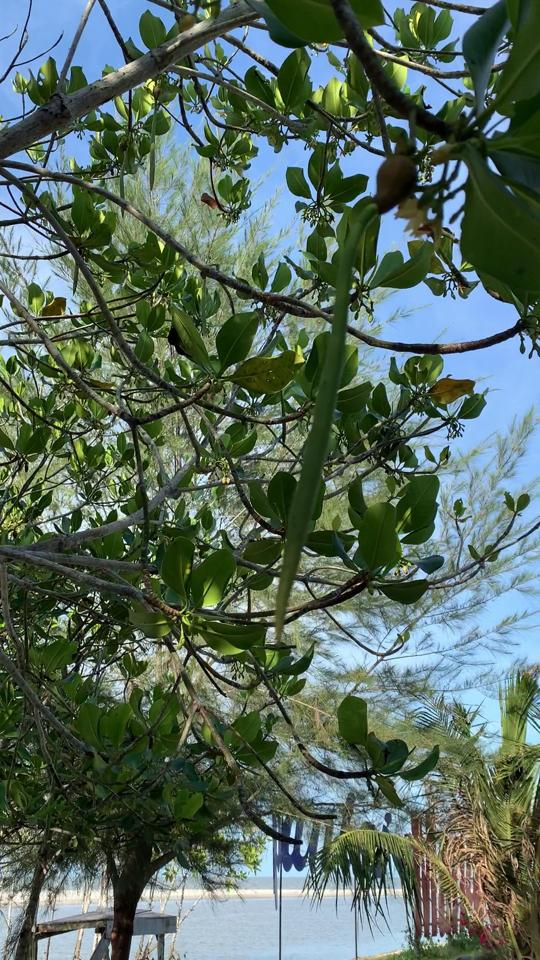mentah: (253, 127, 428, 653)
